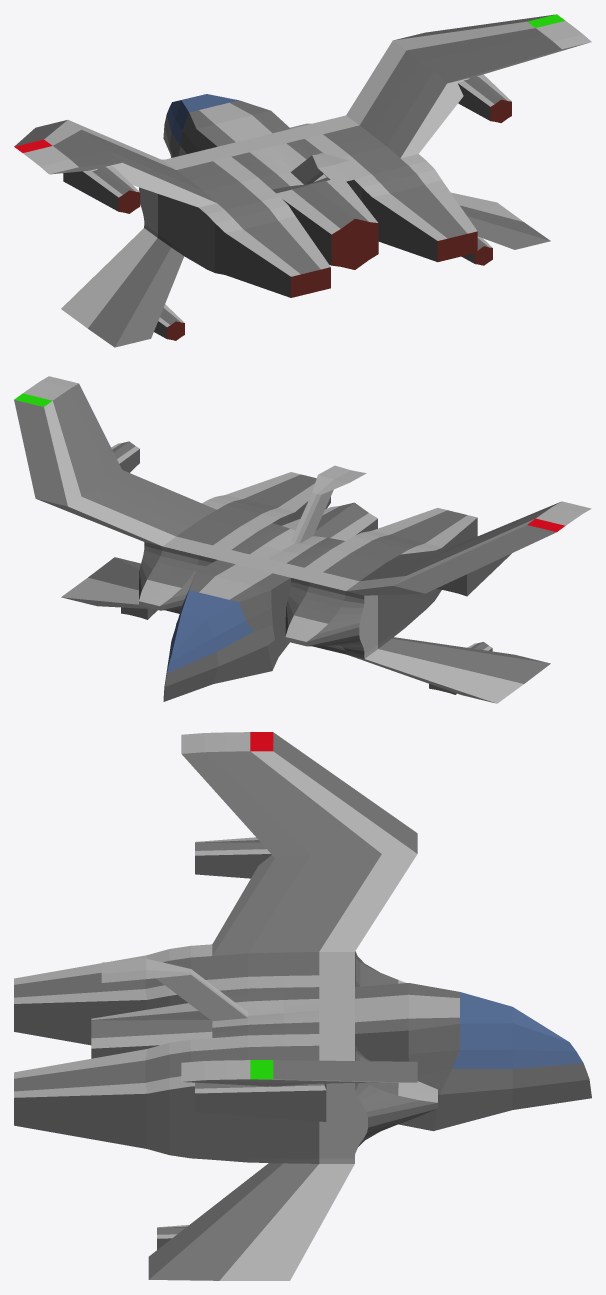
The model's file is spaceship4.fbx.
3 renders of one model, top to bottom at view 1: azimuth 30°, elevation 25°; view 2: azimuth 150°, elevation 25°; view 3: azimuth 270°, elevation 25°, orthographic. The views are drawn at different scales.
Visible parts, largest first — view 1: Cube; view 2: Cube; view 3: Cube.
Boxes of the visible parts, x1,y1,x2,y2 form: Cube: [14, 14, 591, 347]; Cube: [14, 376, 591, 703]; Cube: [14, 732, 591, 1280].
Bounding box in the file's own units: 1918 × 643 × 1349.
